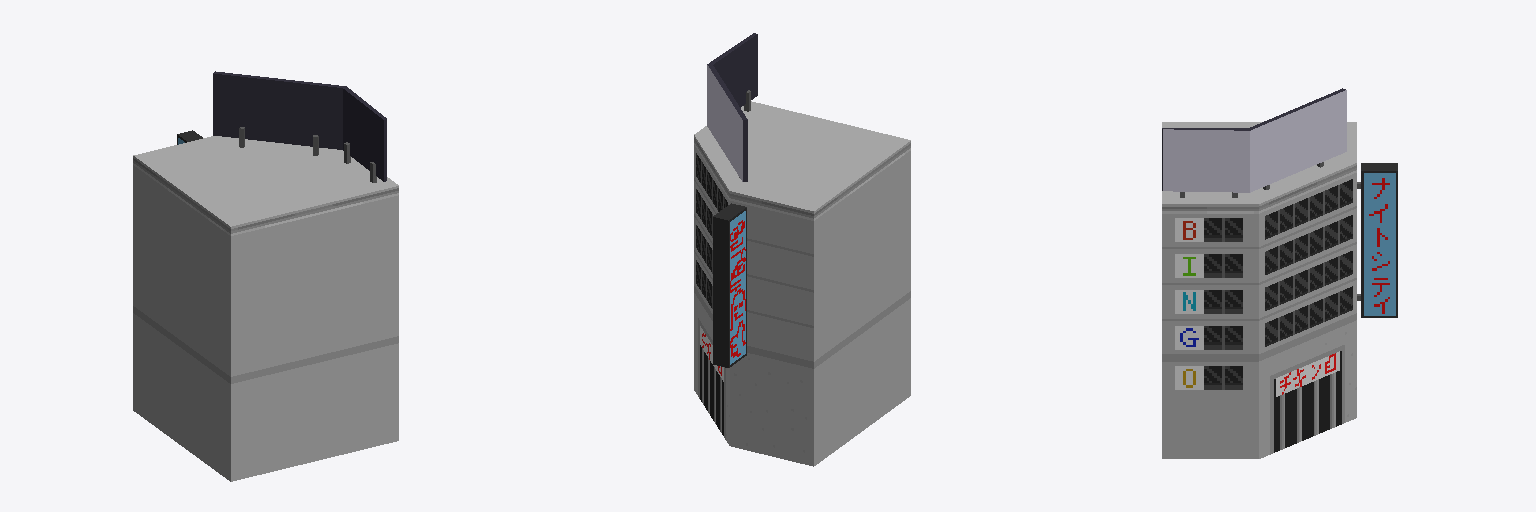
3 views of the same model, side by side, from view 1: azimuth 30°, elevation 25°; view 2: azimuth 150°, elevation 25°; view 3: azimuth 270°, elevation 25° (orthographic).
Parts seen in each view (by area): view 1: body, ad poster, cuboid; view 2: body, cuboid, ad poster; view 3: body, ad poster, cuboid.
Boxes of the visible parts, box(x1,y1,x2,y2) form: body: box(133, 136, 398, 481); ad poster: box(213, 71, 386, 181); cuboid: box(177, 127, 376, 182); body: box(694, 101, 910, 466); cuboid: box(713, 90, 750, 367); ad poster: box(707, 33, 757, 181); body: box(1162, 122, 1356, 458); ad poster: box(1162, 88, 1346, 192); cuboid: box(1180, 162, 1397, 317).
Size of the model in its own units: 4.62 by 8.5 by 5.61.
Materials: 1 (1 with a texture image).